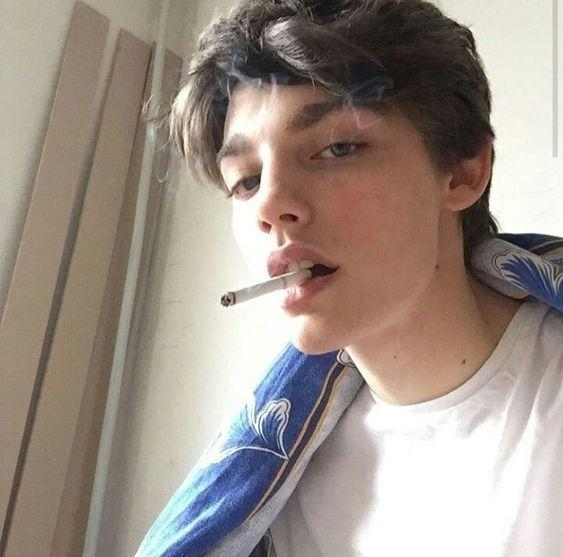cigarette: (220, 268, 313, 307)
